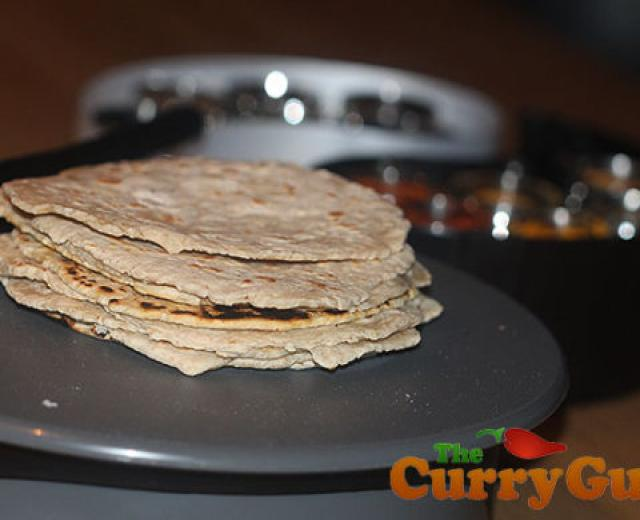chapati: (0, 157, 440, 374)
